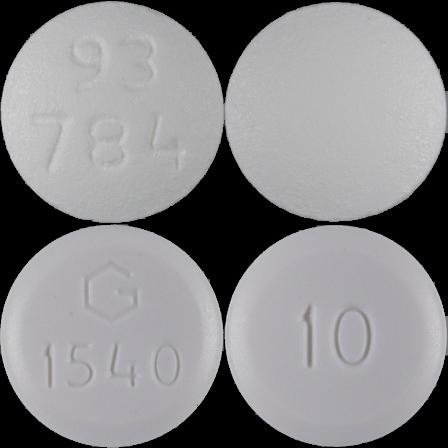0179-1952: (0, 0, 224, 224)
